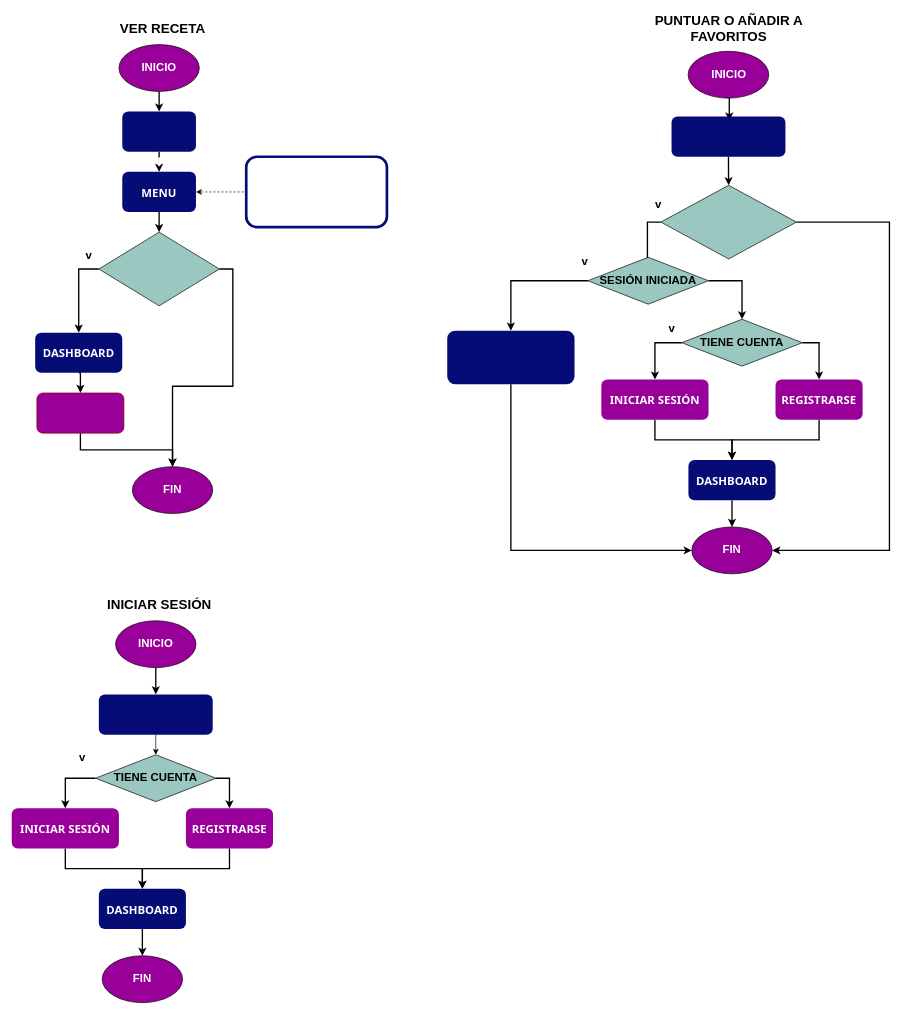
This 907x1014 diagram has some shape labels left out. Here are the shapes that lost their labels. From the top down, the centre of each, then its label:
(159,131): NAVBAR
(728,136): SELECCIONAR RECETA
(316,191): BUSCADOR, FILTROS, SECCIÓN DE RECOMENDADOS
(728,222): GUARDAR RECETA || FAVORITOS
(158,268): BUSCAR COMIDA
(510,357): AGREGAR A FAVORITOS O PUNTUAR
(80,412): RECETA
(155,714): NAVBAR O FOOTER
